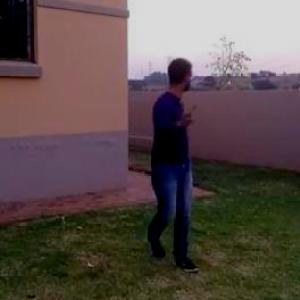takeoff-hand: (166, 99, 199, 131)
